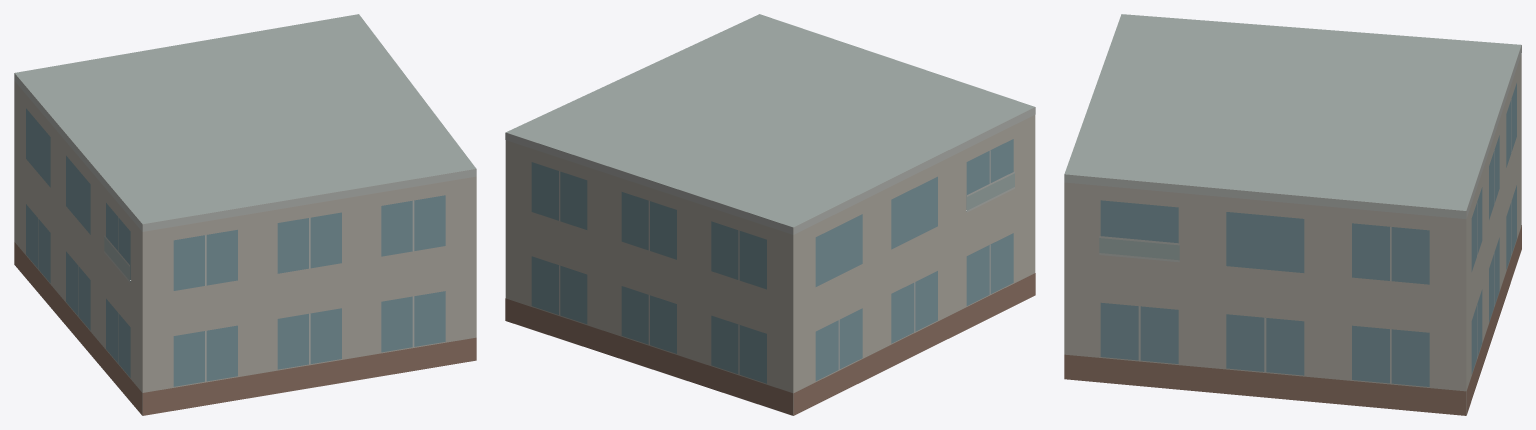
The model's file is survey-upis-32484529.glb.
The picture shows the model from 3 angles, left to right: view 1: azimuth 30°, elevation 25°; view 2: azimuth 150°, elevation 25°; view 3: azimuth 270°, elevation 25°; orthographic projection. The views are drawn at different scales.
Parts seen in each view (by area): view 1: survey-upis-32484529.tmp; view 2: survey-upis-32484529.tmp; view 3: survey-upis-32484529.tmp.
Part boxes in pixels (box(x1,y1,x2,y2)): survey-upis-32484529.tmp: box(14, 14, 476, 415); survey-upis-32484529.tmp: box(505, 14, 1035, 415); survey-upis-32484529.tmp: box(1064, 14, 1521, 415).
Size of the model in its own units: 12.6 by 6.1 by 12.36.
